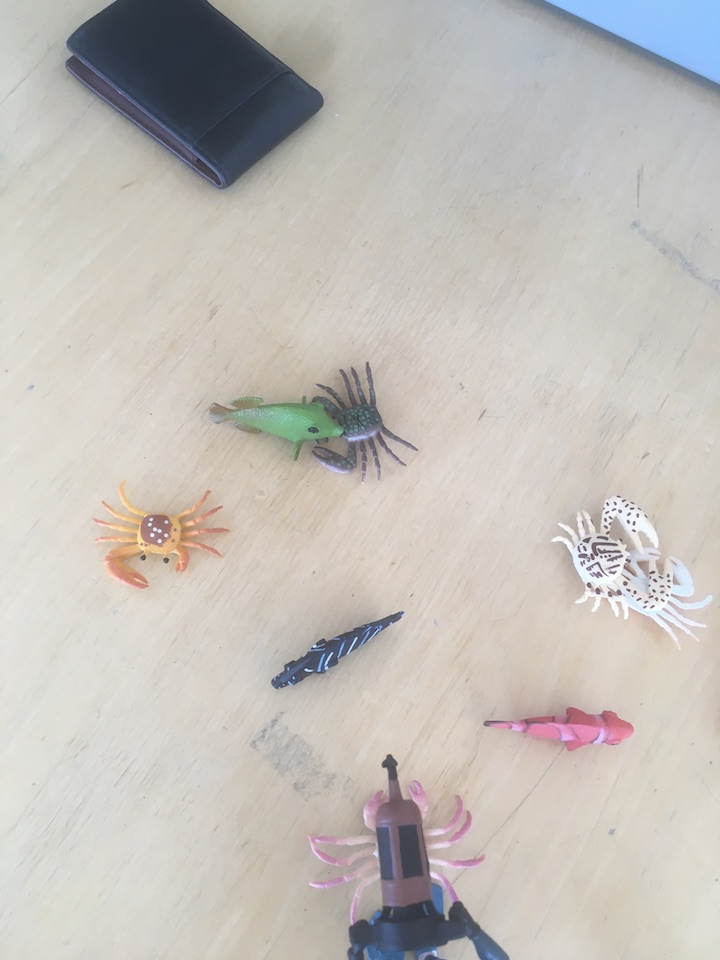crab: (305, 780, 491, 927), (90, 481, 236, 600), (549, 492, 675, 627), (289, 359, 422, 483), (596, 543, 716, 658)
diver: (344, 754, 516, 960)
fish: (265, 602, 414, 694), (203, 389, 349, 457), (476, 701, 645, 759)
